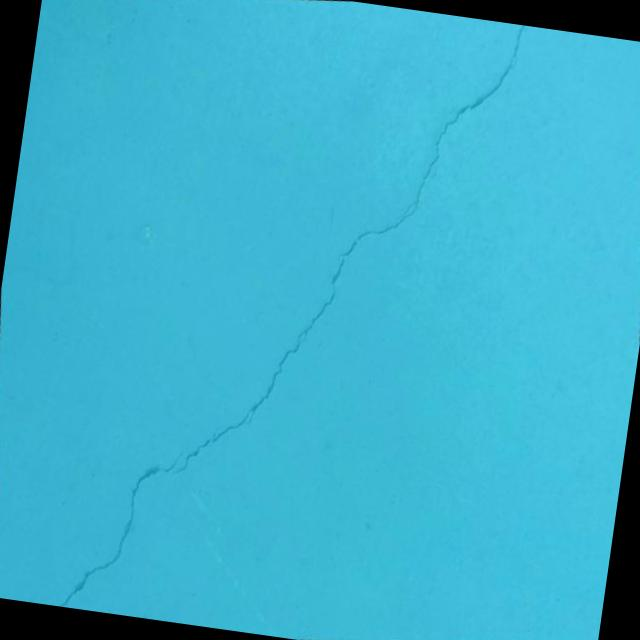crack: (122, 0, 577, 521), (21, 434, 201, 623)
